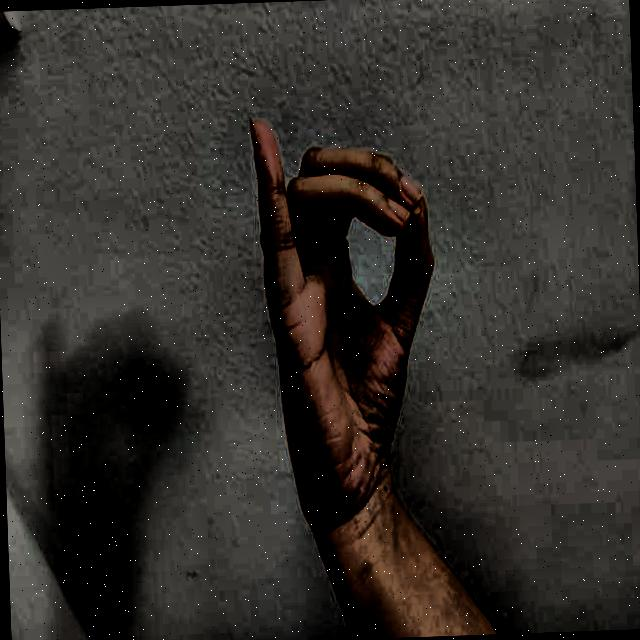Ou: (222, 76, 459, 537)
